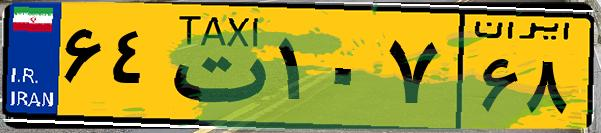0: (330, 28, 385, 110)
1: (270, 28, 330, 110)
4: (110, 28, 158, 98)
6: (57, 26, 110, 100), (475, 38, 525, 113)
7: (385, 28, 445, 110)
8: (525, 38, 570, 115)
ت: (158, 12, 270, 120)
